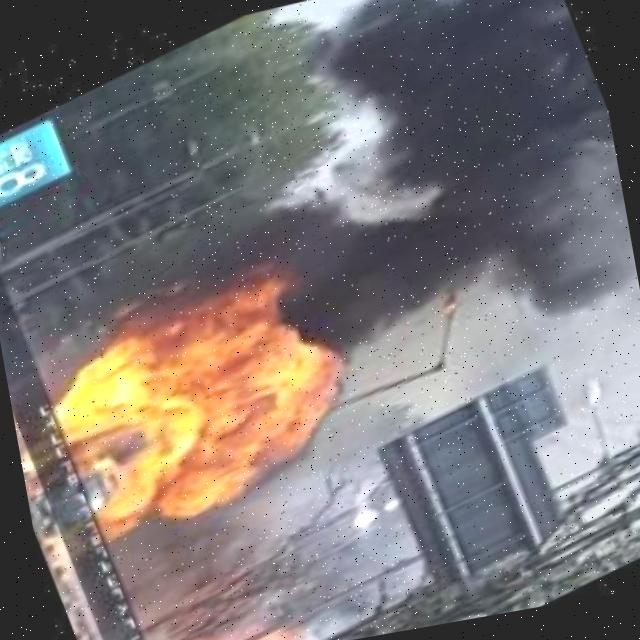fire: (18, 248, 366, 552)
